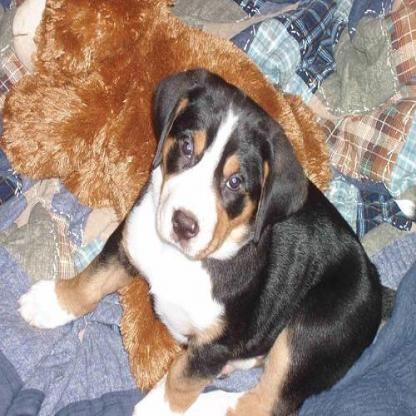Greater_Swiss_Mountain_dog: (18, 67, 398, 414)
